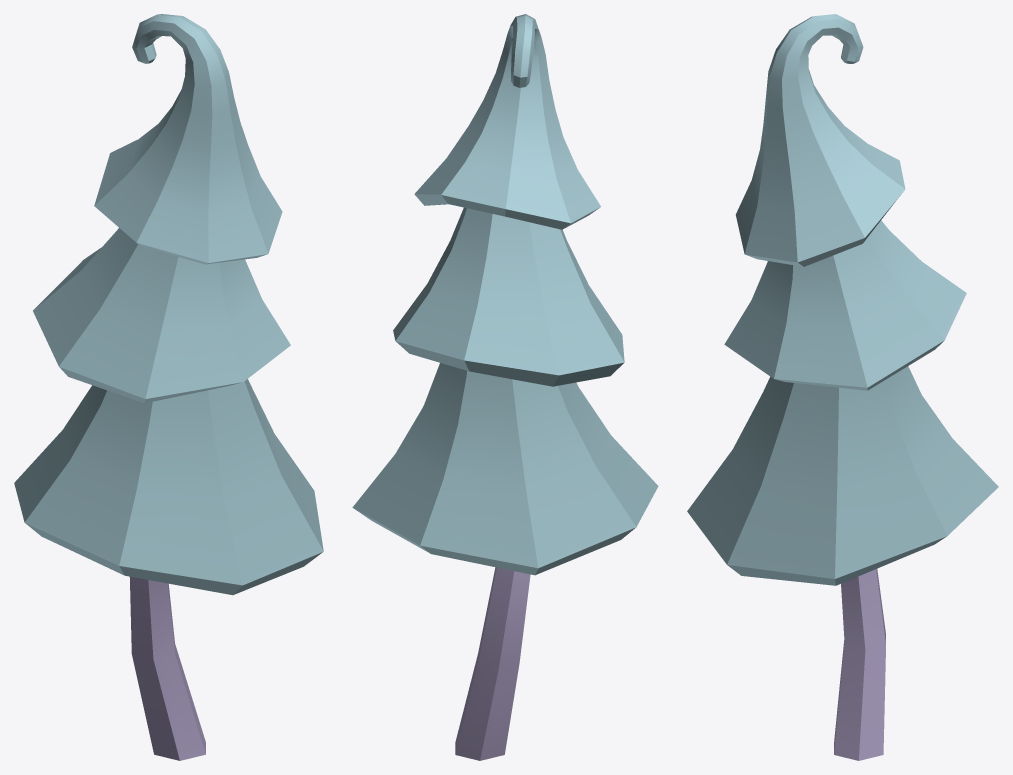
The model's file is Trees_Mystic_03.fbx.
The picture shows the model from 3 angles, left to right: view 1: azimuth 30°, elevation 25°; view 2: azimuth 150°, elevation 25°; view 3: azimuth 270°, elevation 25°; orthographic projection. The views are drawn at different scales.
Visible parts, largest first — view 1: Tree10; view 2: Tree10; view 3: Tree10.
Boxes of the visible parts, <box> form: Tree10: <box>14,14,323,760</box>; Tree10: <box>352,14,658,760</box>; Tree10: <box>687,14,998,760</box>.
Size of the model in its own units: 403 by 1031 by 404.
